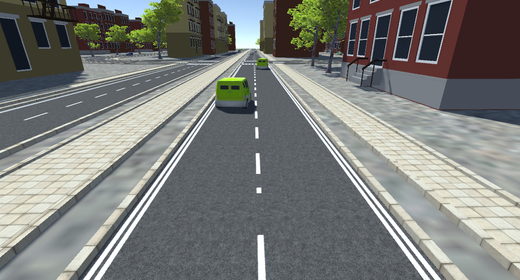centerstrip: (19, 70, 175, 123), (249, 61, 272, 280)
sidestripe: (278, 82, 442, 280), (78, 86, 225, 279)
